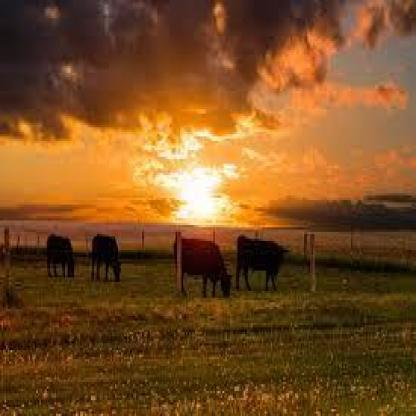cow: (172, 236, 236, 298), (234, 235, 292, 294), (87, 233, 125, 285), (44, 232, 77, 279)
